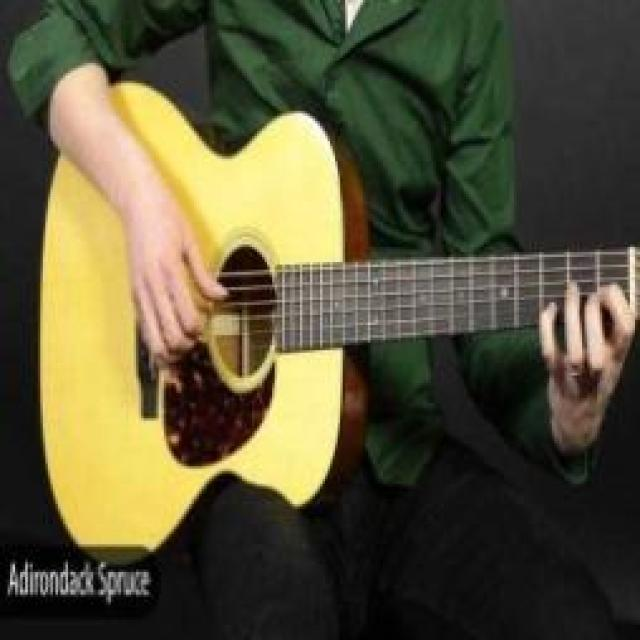acousticguitar: (43, 83, 637, 562)
